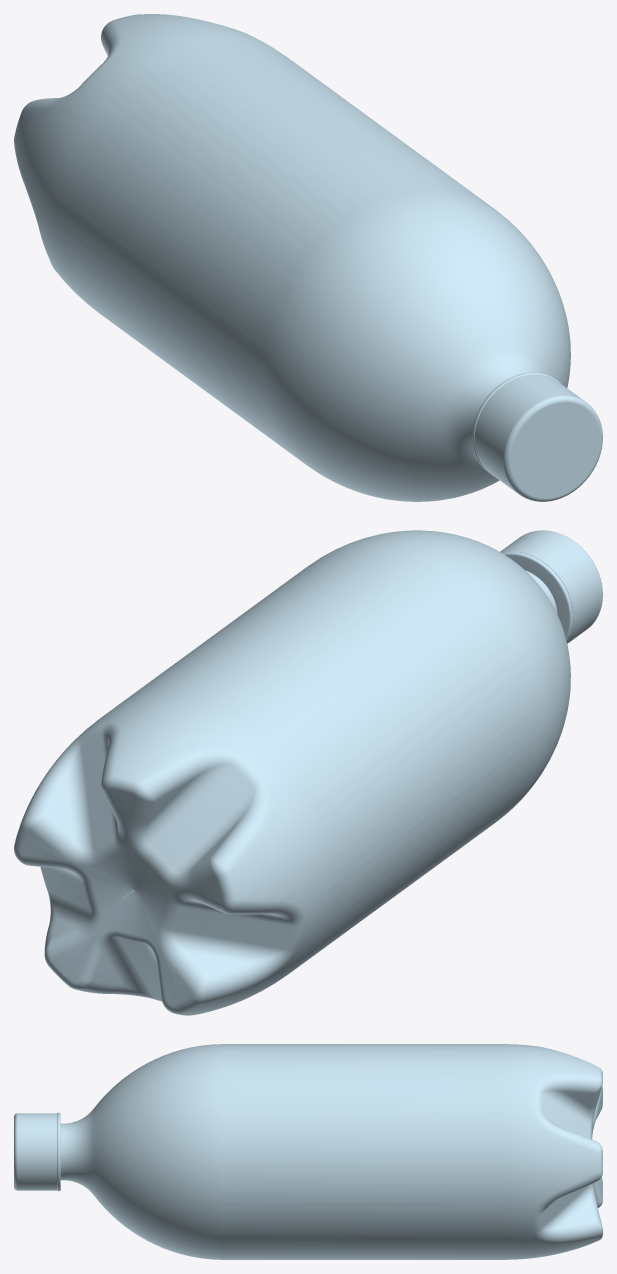
Rendered from soda.gltf.
3 renders of one model, top to bottom at view 1: azimuth 30°, elevation 25°; view 2: azimuth 150°, elevation 25°; view 3: azimuth 270°, elevation 25°, orthographic. The views are drawn at different scales.
Visible parts, largest first — view 1: Part 4, Part 1; view 2: Part 4, Part 1; view 3: Part 4, Part 1.
Part boxes in pixels (left/top/right/bottom): Part 4: left=14, top=14, right=570, bottom=501; Part 1: left=474, top=374, right=602, bottom=501; Part 4: left=14, top=530, right=573, bottom=1015; Part 1: left=500, top=530, right=602, bottom=643; Part 4: left=56, top=1044, right=602, bottom=1259; Part 1: left=14, top=1113, right=56, bottom=1190.
Size of the model in its own units: 0.1112 by 0.1113 by 0.3035.
